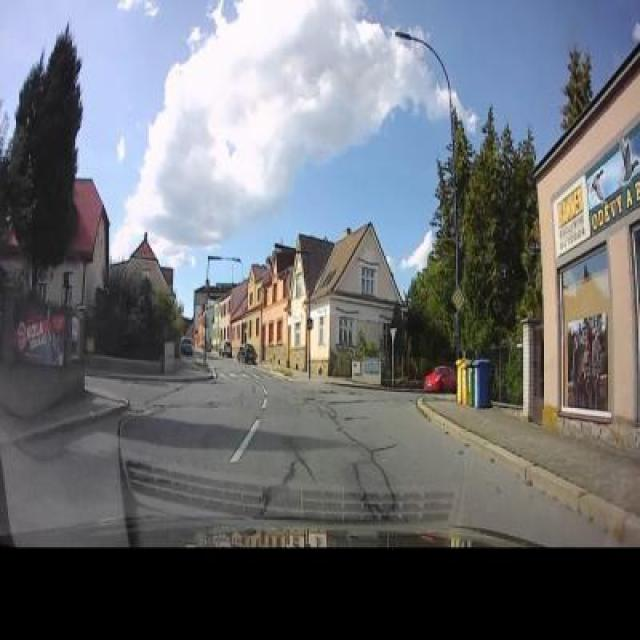clear-road: (122, 376, 615, 546)
